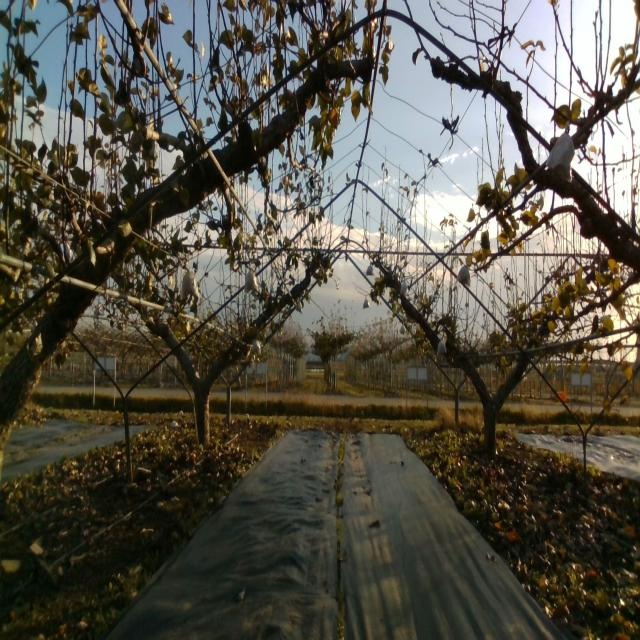pearbags: (546, 119, 574, 184), (180, 264, 199, 302), (244, 264, 259, 294), (456, 266, 472, 285)
